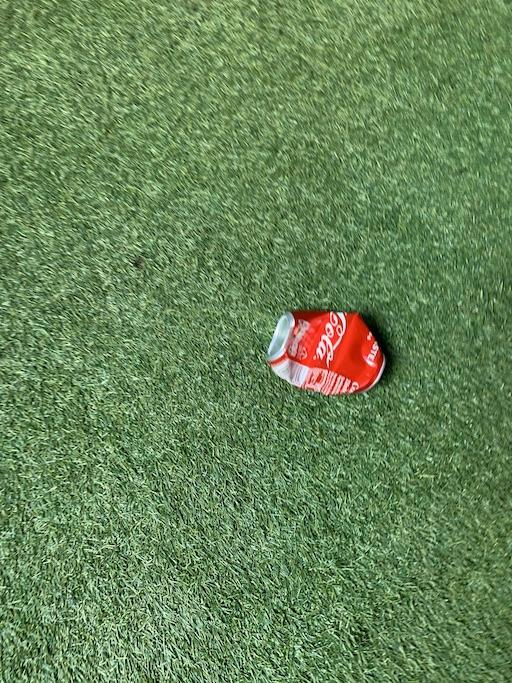Aluminum can: (244, 296, 426, 392)
